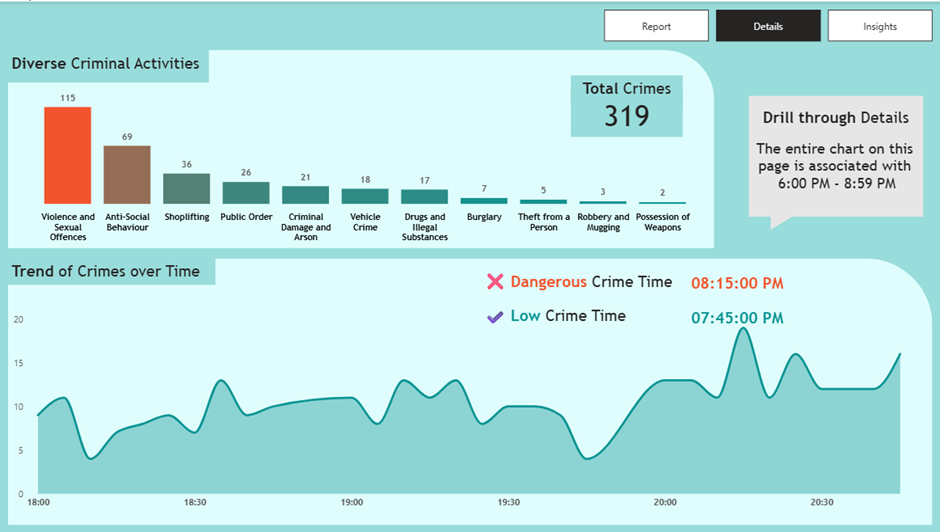

The page's visual inventory and layout, read from the dashboard file:
{"tool":"powerbi","page":{"name":"Details","canvas":[1280,720],"ordinal":1},"visuals":[{"type":"shape","box":[1016.8,127.6,237.4,182.5],"z":0},{"type":"shape","box":[11,65.9,959.2,269],"z":1000},{"type":"shape","box":[11,348.5,1255.6,362.3],"z":2000},{"type":"areaChart","fields":{"Category":["Crime Data.Crime Time"],"Y":["Calculations.Total Crimes"]},"box":[14.3,417.1,1230,281.4],"z":3000},{"type":"card","fields":{"Values":["Calculations.Drillthrough"]},"box":[1016.8,152.3,240.1,137.2],"z":4000},{"type":"clusteredColumnChart","fields":{"Y":["Calculations.Total Crimes"],"Category":["Crime Types.Crime"]},"box":[11,109.8,959.2,225],"z":5000},{"type":"textbox","box":[653.2,359.5,274.4,98.8],"z":6000},{"type":"card","fields":{"Values":["Min(Crime Data.Crime Time)"]},"box":[927.6,325.2,148.2,115.3],"z":7000},{"type":"card","fields":{"Values":["Max(Crime Data.Crime Time)"]},"box":[927.6,384.2,148.2,93.3],"z":8000},{"type":"textbox","box":[11,348.5,281.3,35.7],"z":9000},{"type":"textbox","box":[11,65.9,273.1,43.9],"z":10000},{"type":"card","fields":{"Values":["Calculations.Total Crimes"]},"box":[775.3,122.1,152.3,61.7],"z":11000},{"type":"textbox","box":[1016.8,140,237.4,37],"z":12000},{"type":"textbox","box":[775.3,100.2,152.3,39.8],"z":13000},{"type":"pageNavigator","box":[820.6,11,448.7,43.9],"z":14000}]}

Visuals, with their boxes in screenshot pixels (x1, y1, x2, y2), scaled from the page's 1280x720 canvas onto the 940x532 screenshot:
shape: bbox=[747, 94, 921, 229]
shape: bbox=[8, 49, 712, 247]
shape: bbox=[8, 258, 930, 525]
areaChart - Crime Data.Crime Time x Calculations.Total Crimes: bbox=[11, 308, 914, 516]
card - Calculations.Drillthrough: bbox=[747, 113, 923, 214]
clusteredColumnChart - Calculations.Total Crimes x Crime Types.Crime: bbox=[8, 81, 712, 247]
textbox: bbox=[480, 266, 681, 339]
card - Min(Crime Data.Crime Time): bbox=[681, 240, 790, 325]
card - Max(Crime Data.Crime Time): bbox=[681, 284, 790, 353]
textbox: bbox=[8, 258, 215, 284]
textbox: bbox=[8, 49, 209, 81]
card - Calculations.Total Crimes: bbox=[569, 90, 681, 136]
textbox: bbox=[747, 103, 921, 131]
textbox: bbox=[569, 74, 681, 103]
pageNavigator: bbox=[603, 8, 932, 41]
